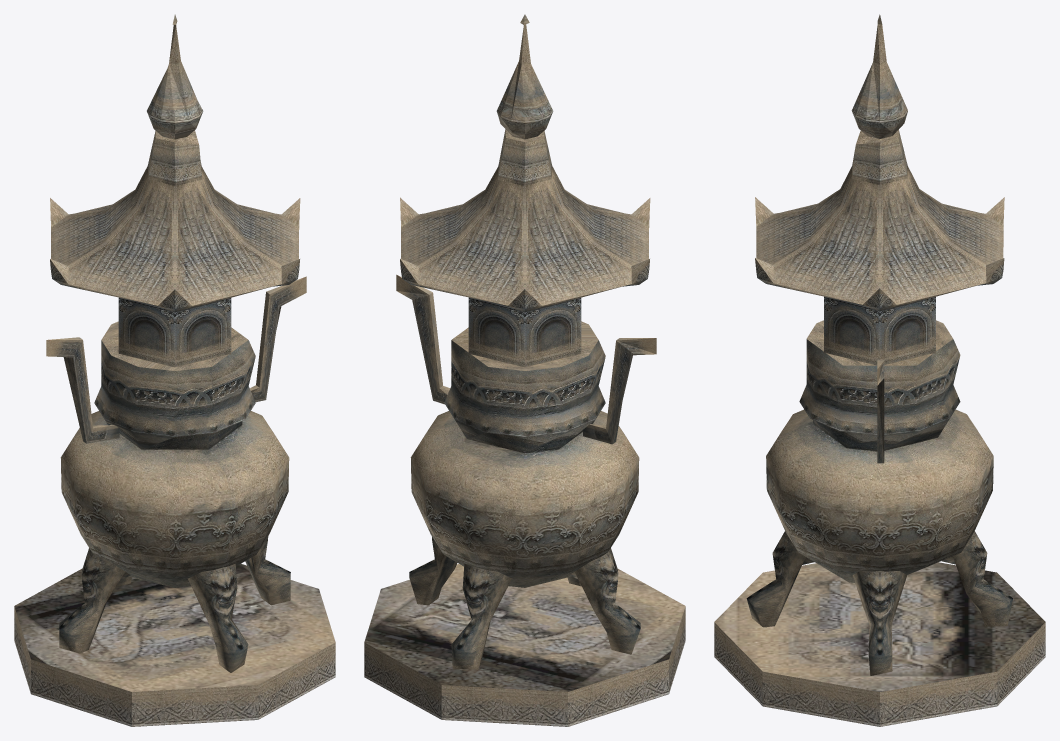
File: desert_brazier_lod_01.glb
The picture shows the model from 3 angles, left to right: view 1: azimuth 30°, elevation 25°; view 2: azimuth 150°, elevation 25°; view 3: azimuth 270°, elevation 25°; orthographic projection.
Parts seen in each view (by area): view 1: ob_brazier_02, ob_brazier_01; view 2: ob_brazier_02, ob_brazier_01; view 3: ob_brazier_02, ob_brazier_01.
Part boxes in pixels (x1,y1,x2,y2): ob_brazier_02: [14, 14, 335, 726]; ob_brazier_01: [46, 276, 306, 587]; ob_brazier_02: [364, 14, 685, 726]; ob_brazier_01: [396, 274, 656, 587]; ob_brazier_02: [714, 14, 1045, 726]; ob_brazier_01: [766, 320, 993, 582].
Size of the model in its own units: 2.06 by 4.42 by 2.06.
2 materials, 2 textured.
